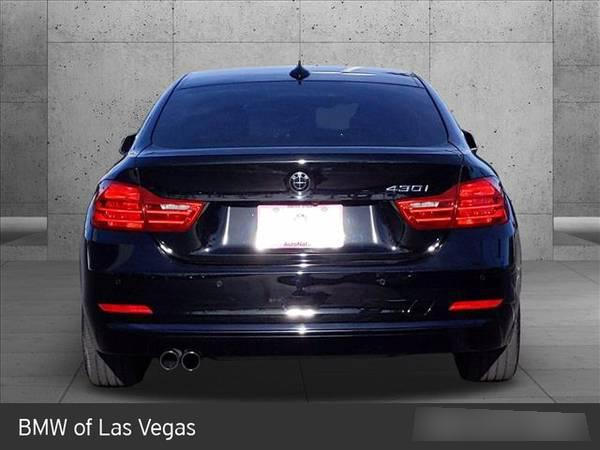Left_Taillight: (91, 180, 208, 233)
Rear_Bumper: (81, 219, 521, 352)
Rear_Windshield: (137, 74, 464, 149)
Right_Taillight: (397, 175, 512, 225)
Roof: (171, 59, 428, 82)
Tailgate: (102, 143, 499, 262)
